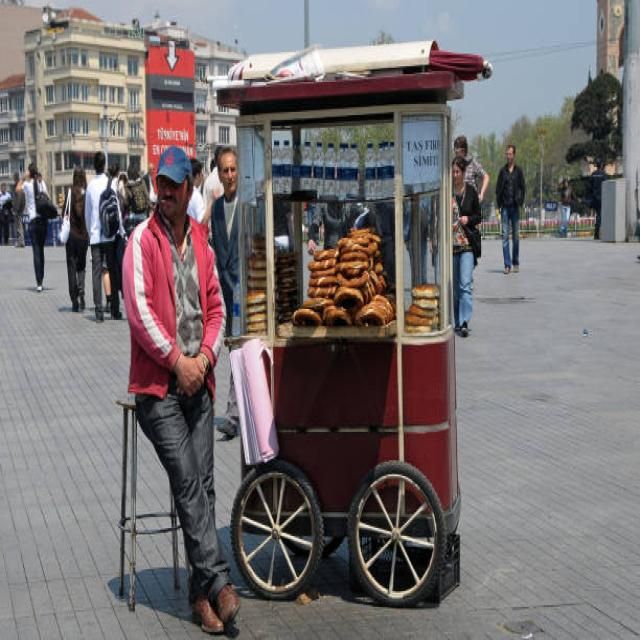Emperan: (190, 39, 497, 631)
